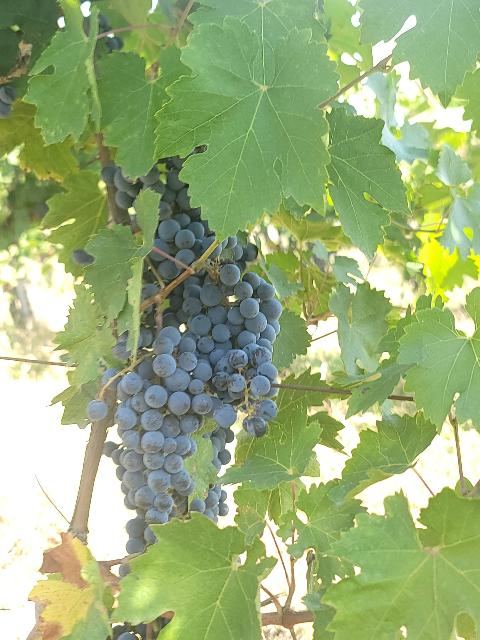grapes: (102, 328, 200, 554), (181, 272, 282, 438)
